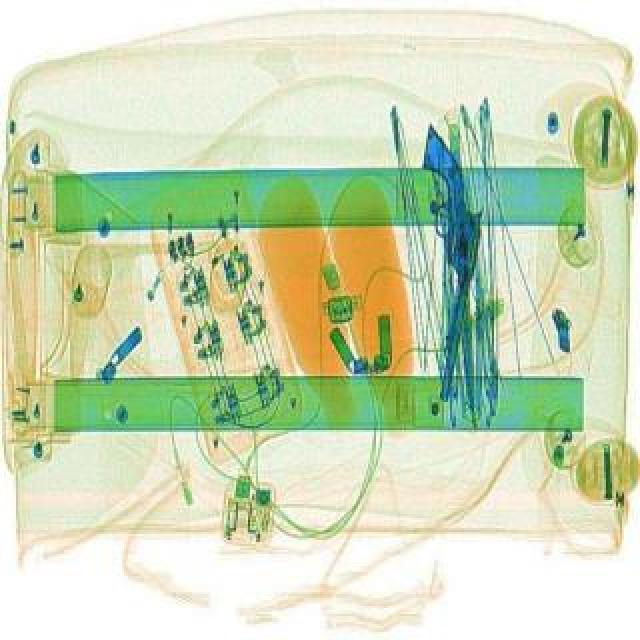gun: (380, 120, 498, 398)
